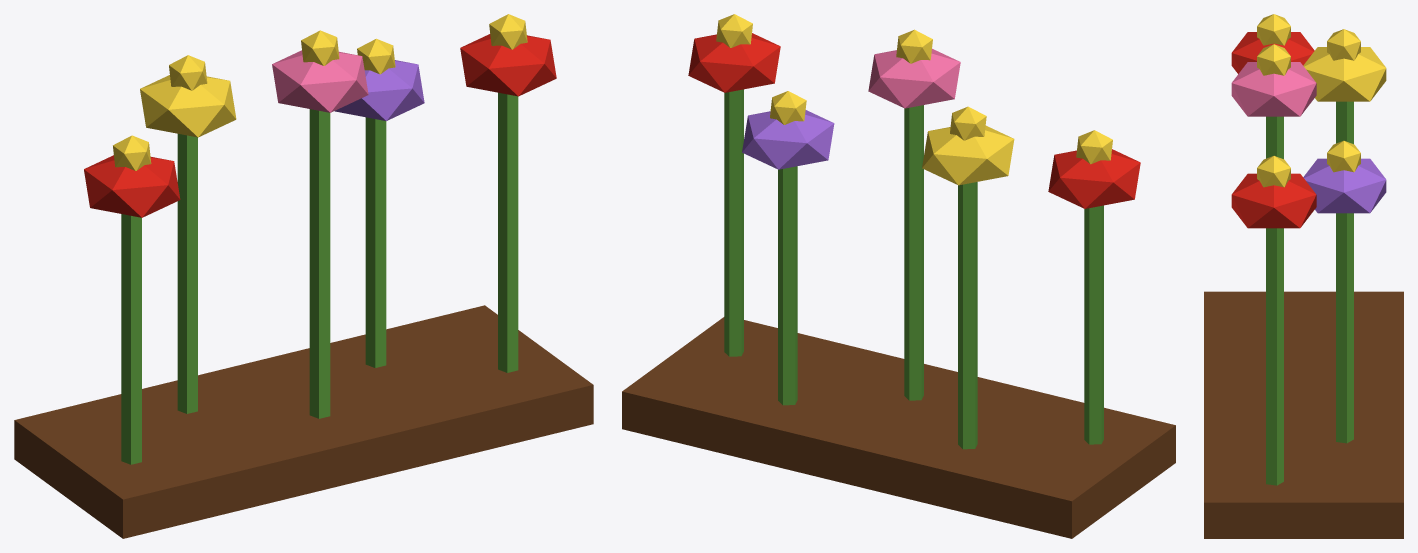
The model's file is garden2_tulip_patch.glb.
The picture shows the model from 3 angles, left to right: view 1: azimuth 30°, elevation 25°; view 2: azimuth 150°, elevation 25°; view 3: azimuth 270°, elevation 25°; orthographic projection. The views are drawn at different scales.
Parts seen in each view (by area): view 1: tulip_patch; view 2: tulip_patch; view 3: tulip_patch.
Boxes of the visible parts, x1=… form: tulip_patch: x1=14, y1=14, x2=593, y2=538; tulip_patch: x1=622, y1=14, x2=1175, y2=538; tulip_patch: x1=1204, y1=14, x2=1403, y2=538.
Bounding box in the file's own units: 0.5 × 0.43 × 0.2.
